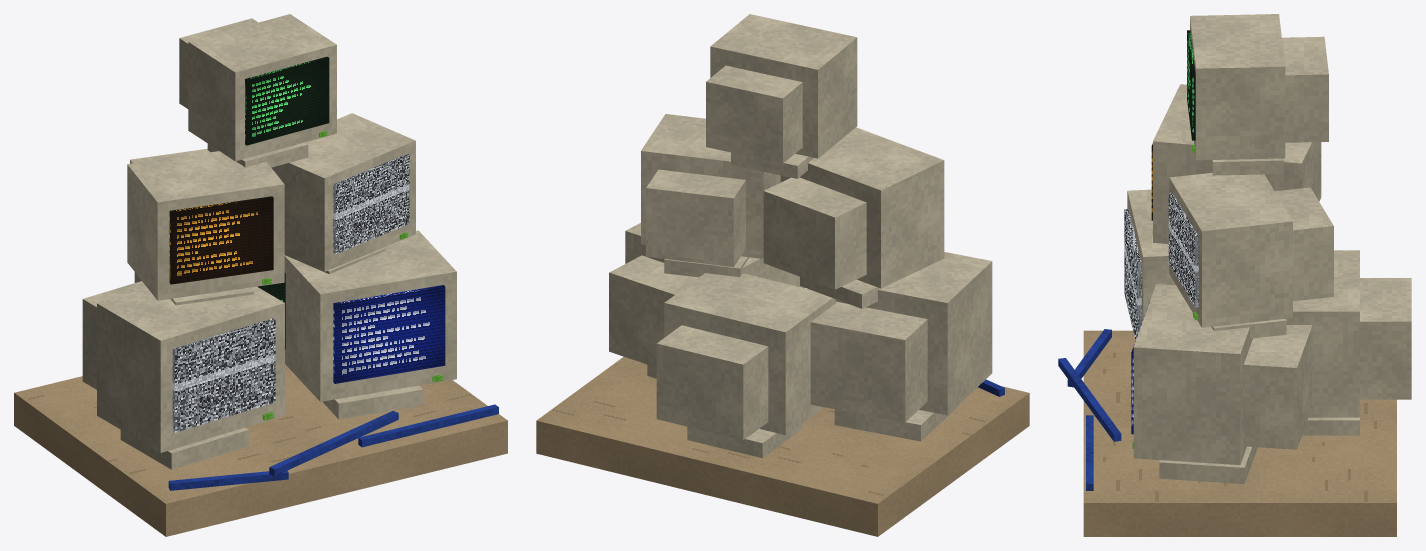
File: tfg_crt_stack.glb
3 views of the same model, side by side, from view 1: azimuth 30°, elevation 25°; view 2: azimuth 150°, elevation 25°; view 3: azimuth 270°, elevation 25° (orthographic). The views are drawn at different scales.
Visible parts, largest first — view 1: tfg_crt_stack; view 2: tfg_crt_stack; view 3: tfg_crt_stack.
Part boxes in pixels (x1=…): tfg_crt_stack: x1=14, y1=14, x2=507, y2=536; tfg_crt_stack: x1=536, y1=14, x2=1029, y2=536; tfg_crt_stack: x1=1058, y1=14, x2=1411, y2=536.
Size of the model in its own units: 1.3 by 1.44 by 1.13.
Materials: 8 (8 with a texture image).
